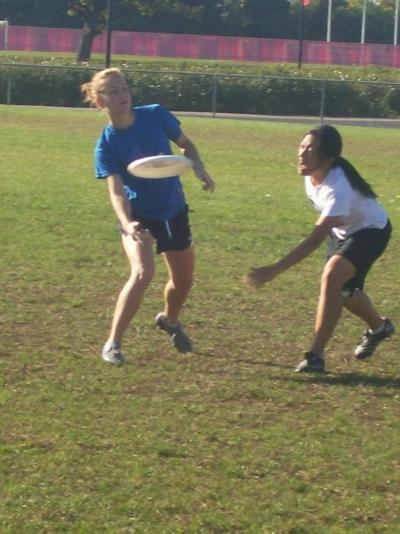person: (81, 67, 216, 367)
